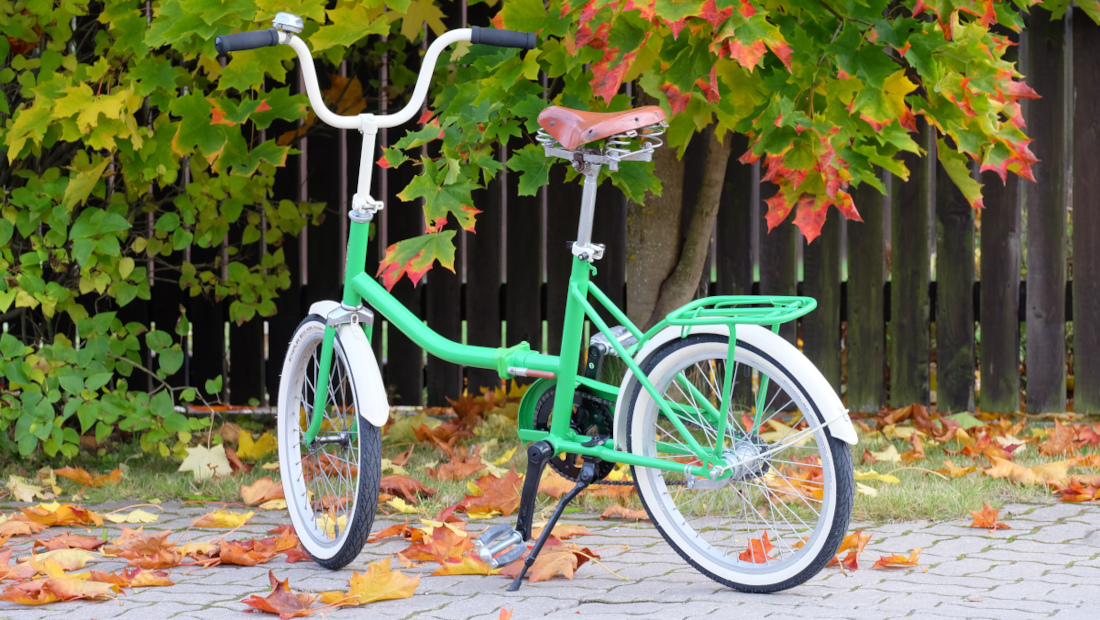bicycle: (211, 12, 858, 595)
